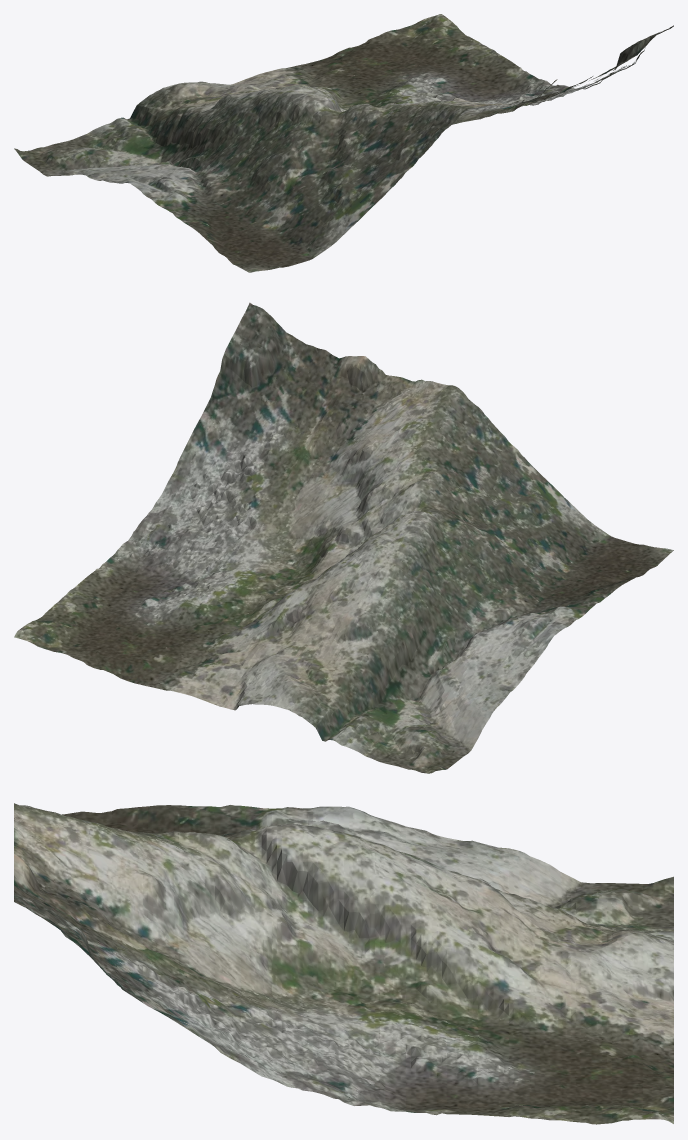
3 views of the same model, one above another, from view 1: azimuth 30°, elevation 25°; view 2: azimuth 150°, elevation 25°; view 3: azimuth 270°, elevation 25° (orthographic). The views are drawn at different scales.
Bounding box in the file's own units: 500 × 225 × 481.
Materials: 1 (1 with a texture image).
